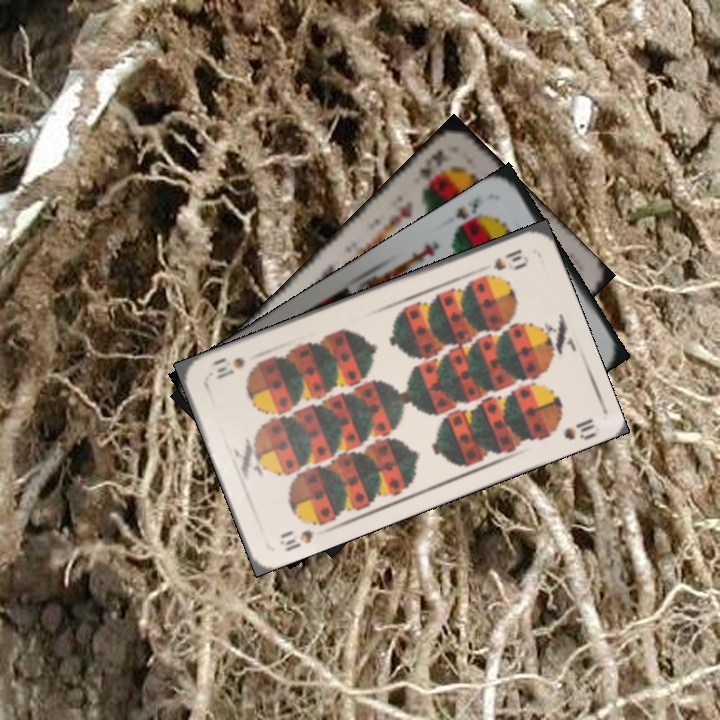S10: (275, 525, 316, 554), (489, 245, 525, 273)
SK: (451, 193, 491, 235), (415, 146, 450, 181)
